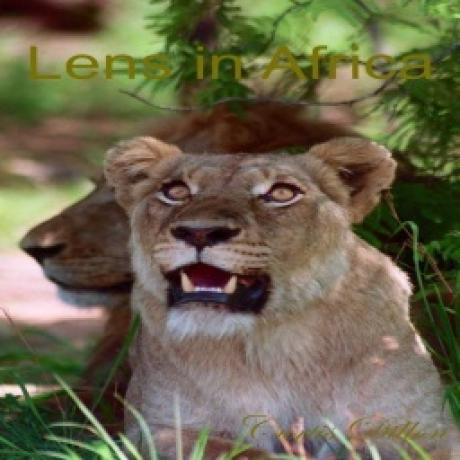Lion: (106, 126, 454, 460), (18, 82, 438, 308)
